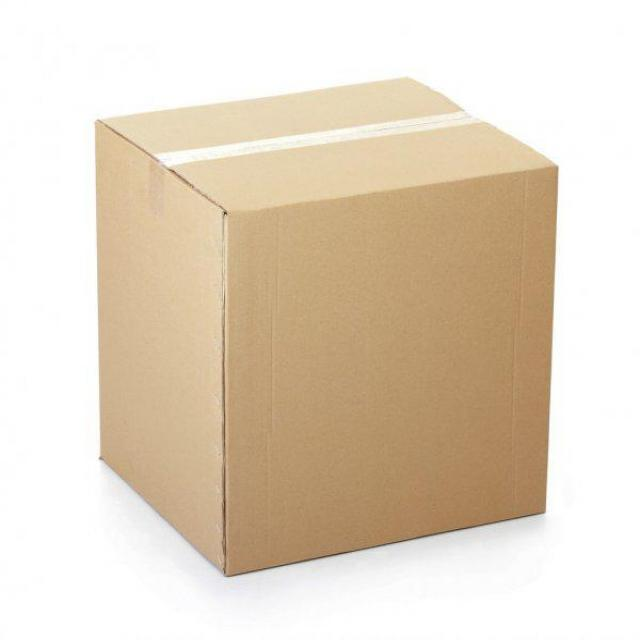box: (83, 62, 564, 578)
